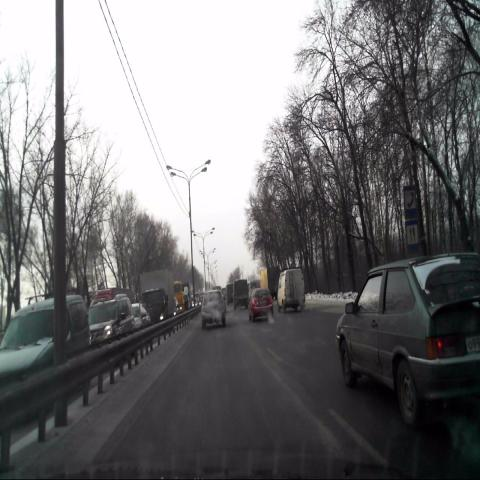7_6: (403, 185, 417, 219)
7_7: (405, 220, 419, 253)
